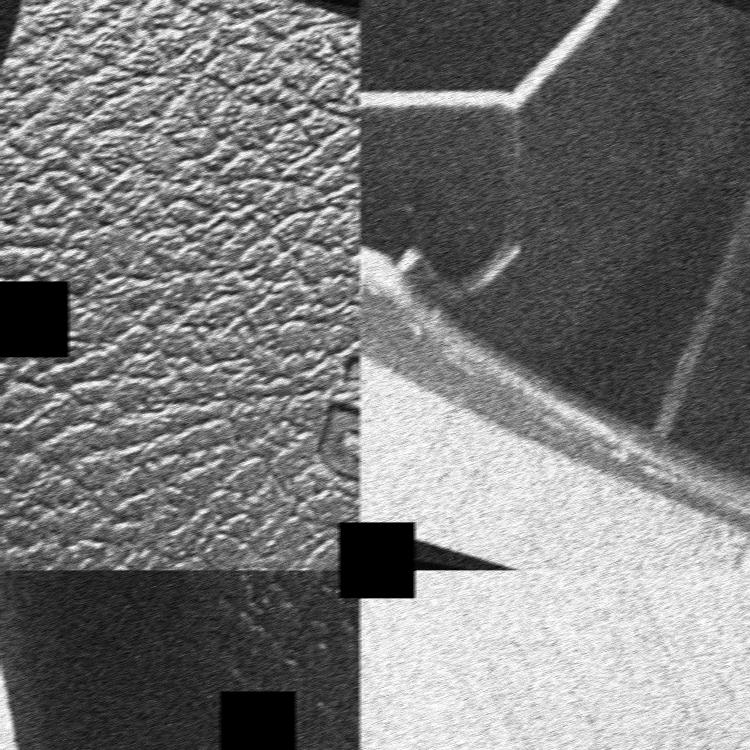Airbag: (359, 0, 750, 570), (0, 0, 360, 570), (359, 570, 750, 750), (0, 570, 360, 750)
